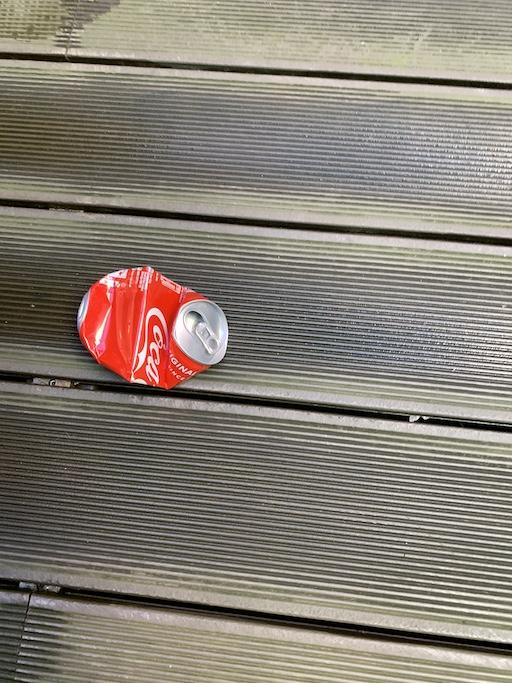Aluminum can: (53, 262, 264, 408)
